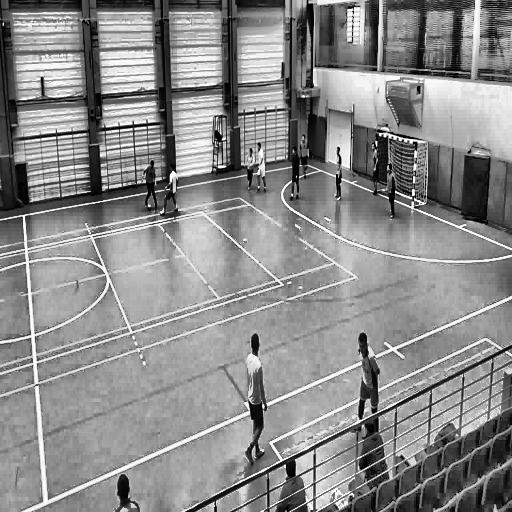ball: (146, 203, 154, 213)
player: (242, 332, 267, 468), (354, 330, 380, 434), (160, 163, 182, 218), (141, 156, 159, 211), (255, 140, 269, 199), (386, 160, 399, 222), (332, 145, 344, 202), (289, 144, 300, 206), (300, 131, 311, 185), (370, 140, 380, 198), (244, 146, 256, 192)
